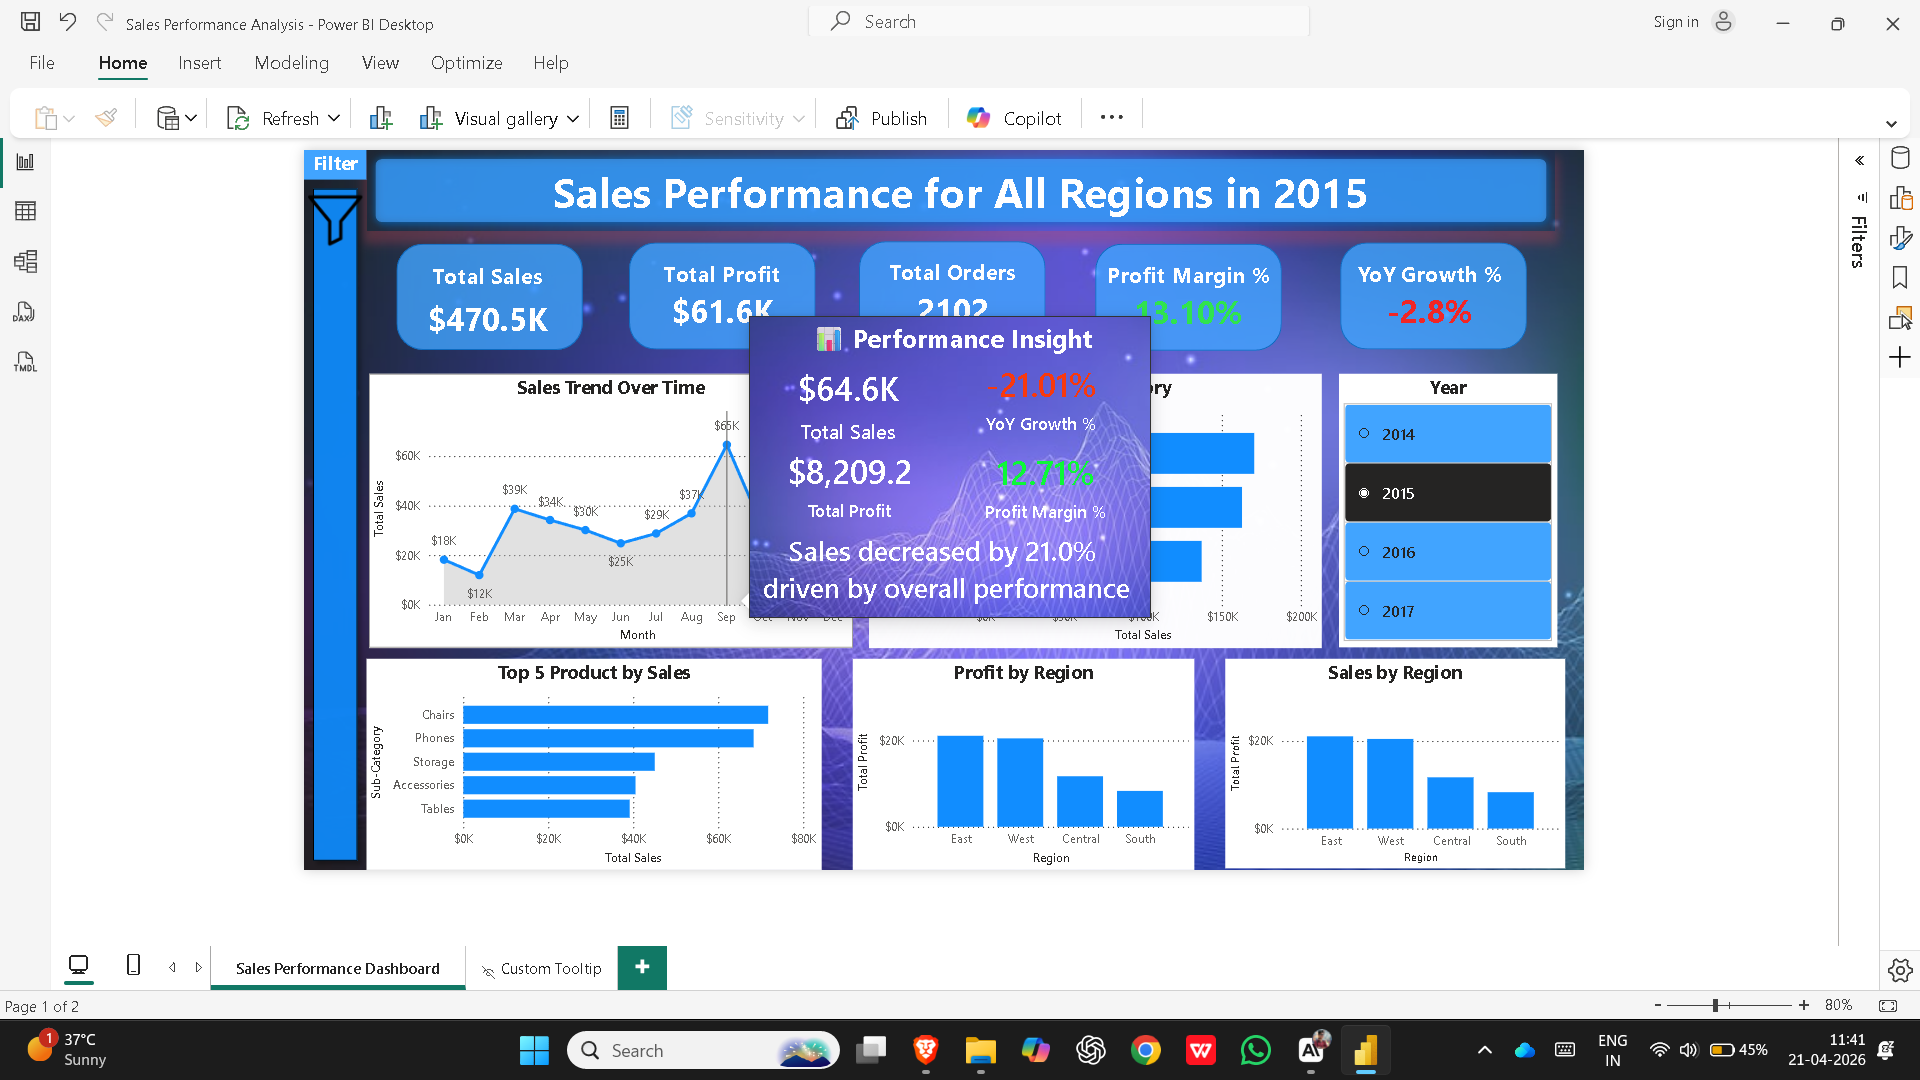

This screenshot's page, from the dashboard's own definition file:
{"tool":"powerbi","page":{"name":"Sales Performance Dashboard","canvas":[1280,720],"ordinal":0},"visuals":[{"type":"shape","title":"Filter","box":[0,0,62.5,720],"z":0,"group":"g1"},{"type":"shape","box":[62.6,0,1189,81],"z":1000},{"type":"actionButton","title":"Open Button","box":[0,31.2,62.5,78.8],"z":1000,"group":"g1"},{"type":"lineChart","title":"Sales Trend Over Time","fields":{"Category":["DateTable.Month"],"Y":["Key Measures.Total Sales"]},"box":[64.9,223.6,483.3,274.1],"z":3000},{"type":"barChart","title":"Sales by Category","fields":{"Category":["Sales_Data.Category"],"Y":["Key Measures.Total Sales"]},"box":[565.6,223.6,453,274.1],"z":4000},{"type":"clusteredColumnChart","title":"Sales by Region","fields":{"Category":["Sales_Data.Region"],"Y":["Key Measures.Total Profit"]},"box":[921.5,509.2,339.9,209.8],"z":5000},{"type":"columnChart","title":" Profit by Region","fields":{"Category":["Sales_Data.Region"],"Y":["Key Measures.Total Profit"]},"box":[548.9,508.8,341.2,211.2],"z":6000},{"type":"clusteredBarChart","title":"Top 5 Product by Sales","fields":{"Category":["Sales_Data.Sub-Category"],"Y":["Key Measures.Total Sales"]},"box":[62.5,508.8,455,211.2],"z":7000},{"type":"group","id":"g1","title":"Filter_Panel","box":[0,0,62.5,720],"z":9000},{"type":"advancedSlicerVisual","fields":{"Values":["DateTable.Year"]},"box":[1035.6,223.3,218.4,273.6],"z":10000},{"type":"shape","box":[92.5,93.8,186.2,106.2],"z":11000},{"type":"card","title":"Total Sales","fields":{"Values":["Key Measures.Total Sales"]},"box":[114.3,110,140,88.6],"z":12000},{"type":"shape","box":[324.9,92.9,186.6,107],"z":13000},{"type":"card","title":"Total Profit","fields":{"Values":["Key Measures.Total Profit"]},"box":[329.5,107.4,177.5,77.9],"z":14000},{"type":"shape","box":[555.6,91.5,186.6,107],"z":15000},{"type":"card","title":"Total Orders","fields":{"Values":["Key Measures.Total Orders"]},"box":[560.1,106.1,177.5,77.9],"z":16000},{"type":"shape","box":[791.7,94,186.6,107],"z":17000},{"type":"card","title":"Profit Margin %","fields":{"Values":["Key Measures.Profit Margin %"]},"box":[796.6,108.9,176.6,77.1],"z":18000},{"type":"shape","box":[1036,92.8,186.6,107],"z":19000},{"type":"card","title":"YoY Growth %","fields":{"Values":["Key Measures.YoY Growth %"]},"box":[1041.4,107.1,170,77.1],"z":20000}]}

Visuals, with their boxes on the page's 1280x720 design canvas (x1, y1, x2, y2). These are canvas units, not pixel positions in the 1920x1080 screenshot, which may show the page scaled, cropped or inside an application window:
"Filter" shape: pyautogui.locateOnScreen(0, 0, 62, 720)
shape: pyautogui.locateOnScreen(63, 0, 1252, 81)
"Open Button" actionButton: pyautogui.locateOnScreen(0, 31, 62, 110)
"Sales Trend Over Time" lineChart: pyautogui.locateOnScreen(65, 224, 548, 498)
"Sales by Category" barChart: pyautogui.locateOnScreen(566, 224, 1019, 498)
"Sales by Region" clusteredColumnChart: pyautogui.locateOnScreen(922, 509, 1261, 719)
" Profit by Region" columnChart: pyautogui.locateOnScreen(549, 509, 890, 720)
"Top 5 Product by Sales" clusteredBarChart: pyautogui.locateOnScreen(62, 509, 518, 720)
"Filter_Panel" group: pyautogui.locateOnScreen(0, 0, 62, 720)
advancedSlicerVisual - DateTable.Year: pyautogui.locateOnScreen(1036, 223, 1254, 497)
shape: pyautogui.locateOnScreen(92, 94, 279, 200)
"Total Sales" card: pyautogui.locateOnScreen(114, 110, 254, 199)
shape: pyautogui.locateOnScreen(325, 93, 512, 200)
"Total Profit" card: pyautogui.locateOnScreen(330, 107, 507, 185)
shape: pyautogui.locateOnScreen(556, 92, 742, 198)
"Total Orders" card: pyautogui.locateOnScreen(560, 106, 738, 184)
shape: pyautogui.locateOnScreen(792, 94, 978, 201)
"Profit Margin %" card: pyautogui.locateOnScreen(797, 109, 973, 186)
shape: pyautogui.locateOnScreen(1036, 93, 1223, 200)
"YoY Growth %" card: pyautogui.locateOnScreen(1041, 107, 1211, 184)
